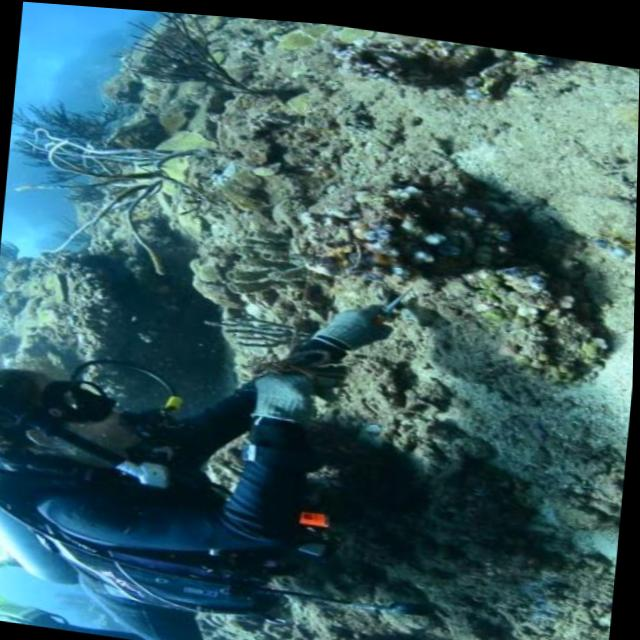Dead Coral: (6, 1, 344, 318)
